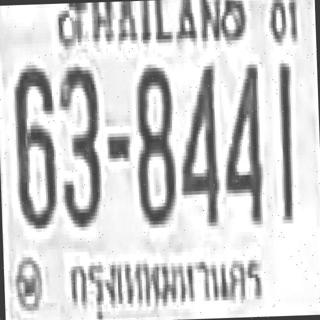N01: (276, 61, 292, 218)
N03: (57, 62, 102, 224)
N04: (177, 62, 218, 223), (221, 61, 262, 222)
N06: (12, 61, 56, 226)
N08: (132, 60, 175, 221)
P04: (64, 241, 275, 320)
